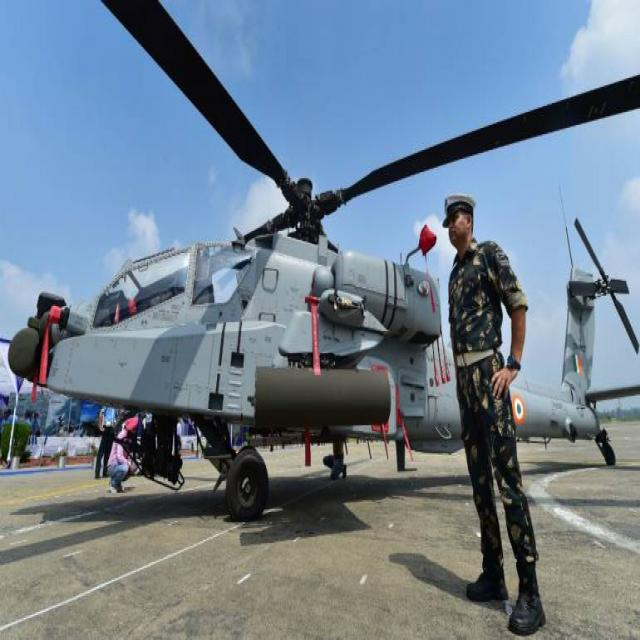helicopter: (3, 6, 640, 521)
